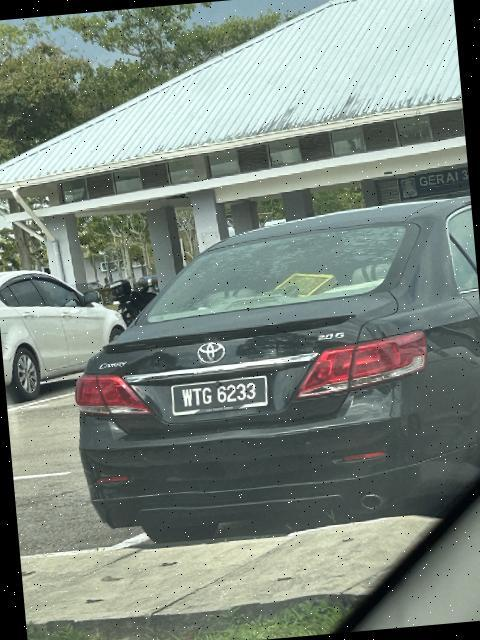License_Plate: (169, 378, 268, 415)
WTG6233: (169, 378, 268, 415)
car: (53, 199, 480, 548)
